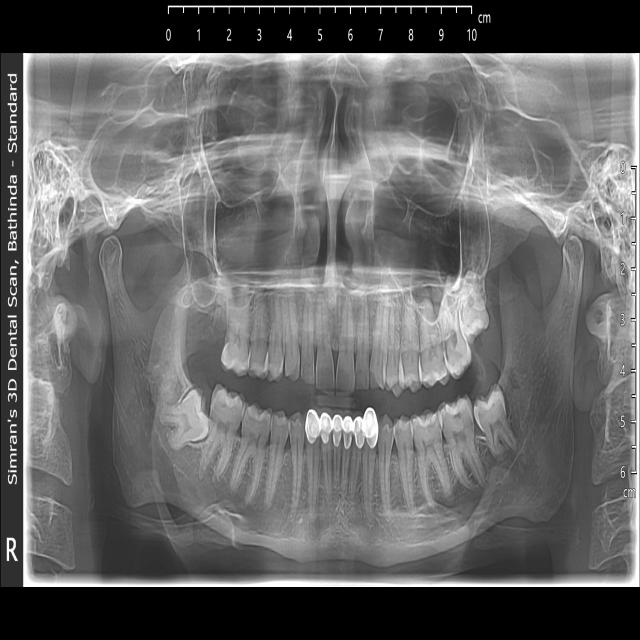Caries: (443, 331, 469, 375)
Crown: (305, 407, 380, 451)
Missing teeth: (199, 297, 224, 340)
impacted tooth: (159, 384, 211, 449), (474, 383, 517, 460), (457, 273, 492, 340)
